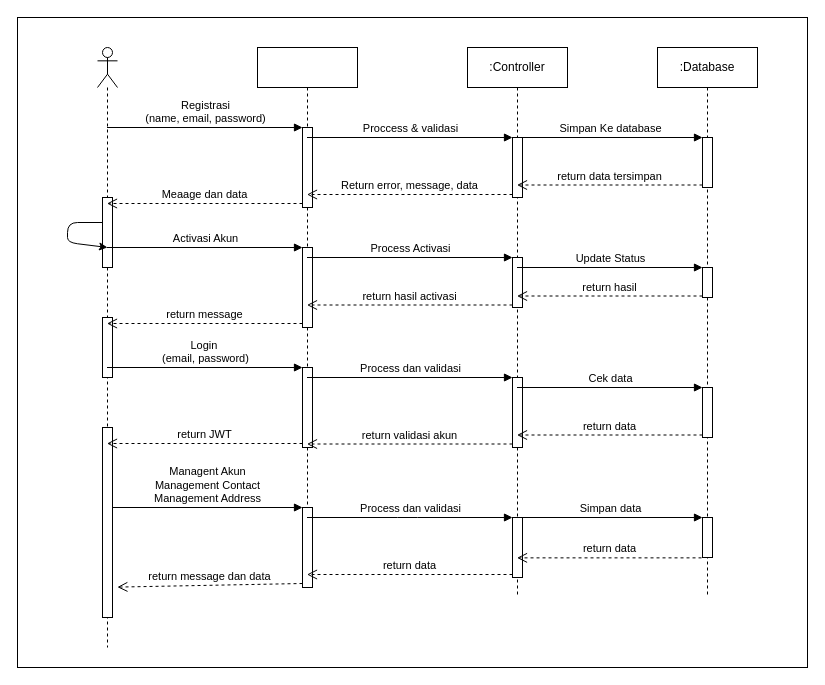
This 825x685 diagram has some shape labels left out. The shapes that lost their labels are listed below. From the top down, each one's box as (x1, y1, x2, y2) in pixels, then its label:
(256, 46, 358, 588): :API
(96, 46, 118, 648): User
